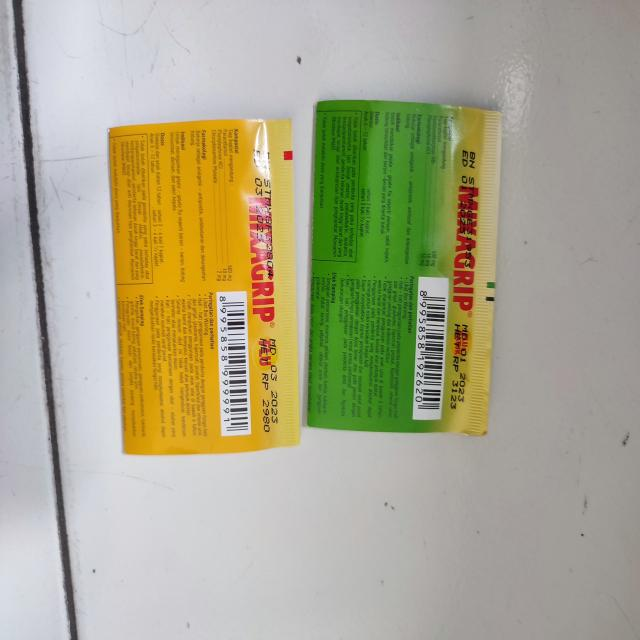B3: (103, 116, 298, 456), (306, 103, 502, 441)
